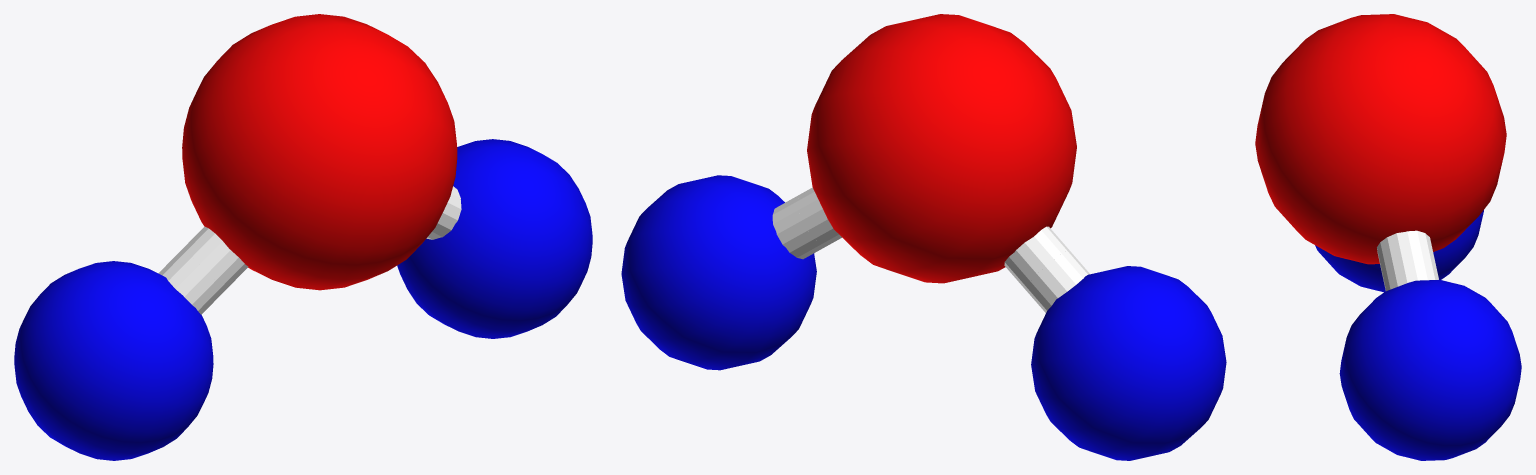
The model's file is oxido_de_hidrogenio.obj.
3 renders of one model, left to right at view 1: azimuth 30°, elevation 25°; view 2: azimuth 150°, elevation 25°; view 3: azimuth 270°, elevation 25°, orthographic. The views are drawn at different scales.
Visible parts, largest first — view 1: Shape_Sphere_Shape_Sphere.001, Shape_Sphere.002_Shape_Sphere, Shape_Sphere.001_Shape_Sphere.002, Shape_Cylinder.003, Shape_Cylinder.002, Shape_Cylinder.001; view 2: Shape_Sphere_Shape_Sphere.001, Shape_Sphere.002_Shape_Sphere, Shape_Sphere.001_Shape_Sphere.002, Shape_Cylinder.003, Shape_Cylinder.002, Shape_Cylinder.001, Shape_Cylinder; view 3: Shape_Sphere_Shape_Sphere.001, Shape_Sphere.001_Shape_Sphere.002, Shape_Sphere.002_Shape_Sphere, Shape_Cylinder, Shape_Cylinder.001.
Boxes of the visible parts, x1,y1,x2,y2 form: Shape_Sphere_Shape_Sphere.001: (182, 14, 457, 290); Shape_Sphere.002_Shape_Sphere: (14, 261, 213, 460); Shape_Sphere.001_Shape_Sphere.002: (397, 139, 592, 338); Shape_Cylinder.003: (158, 249, 224, 314); Shape_Cylinder.002: (183, 226, 248, 290); Shape_Cylinder.001: (426, 186, 461, 239); Shape_Sphere_Shape_Sphere.001: (807, 14, 1076, 283); Shape_Sphere.002_Shape_Sphere: (1031, 266, 1226, 460); Shape_Sphere.001_Shape_Sphere.002: (621, 175, 816, 370); Shape_Cylinder.003: (1025, 250, 1089, 312); Shape_Cylinder.002: (1004, 226, 1069, 288); Shape_Cylinder.001: (772, 193, 827, 259); Shape_Cylinder: (797, 187, 841, 245); Shape_Sphere_Shape_Sphere.001: (1255, 14, 1506, 264); Shape_Sphere.001_Shape_Sphere.002: (1339, 279, 1521, 460); Shape_Sphere.002_Shape_Sphere: (1315, 210, 1483, 292); Shape_Cylinder: (1377, 230, 1435, 275); Shape_Cylinder.001: (1382, 256, 1438, 290).
Size of the model in its own units: 2.18 by 1.39 by 0.9656.
